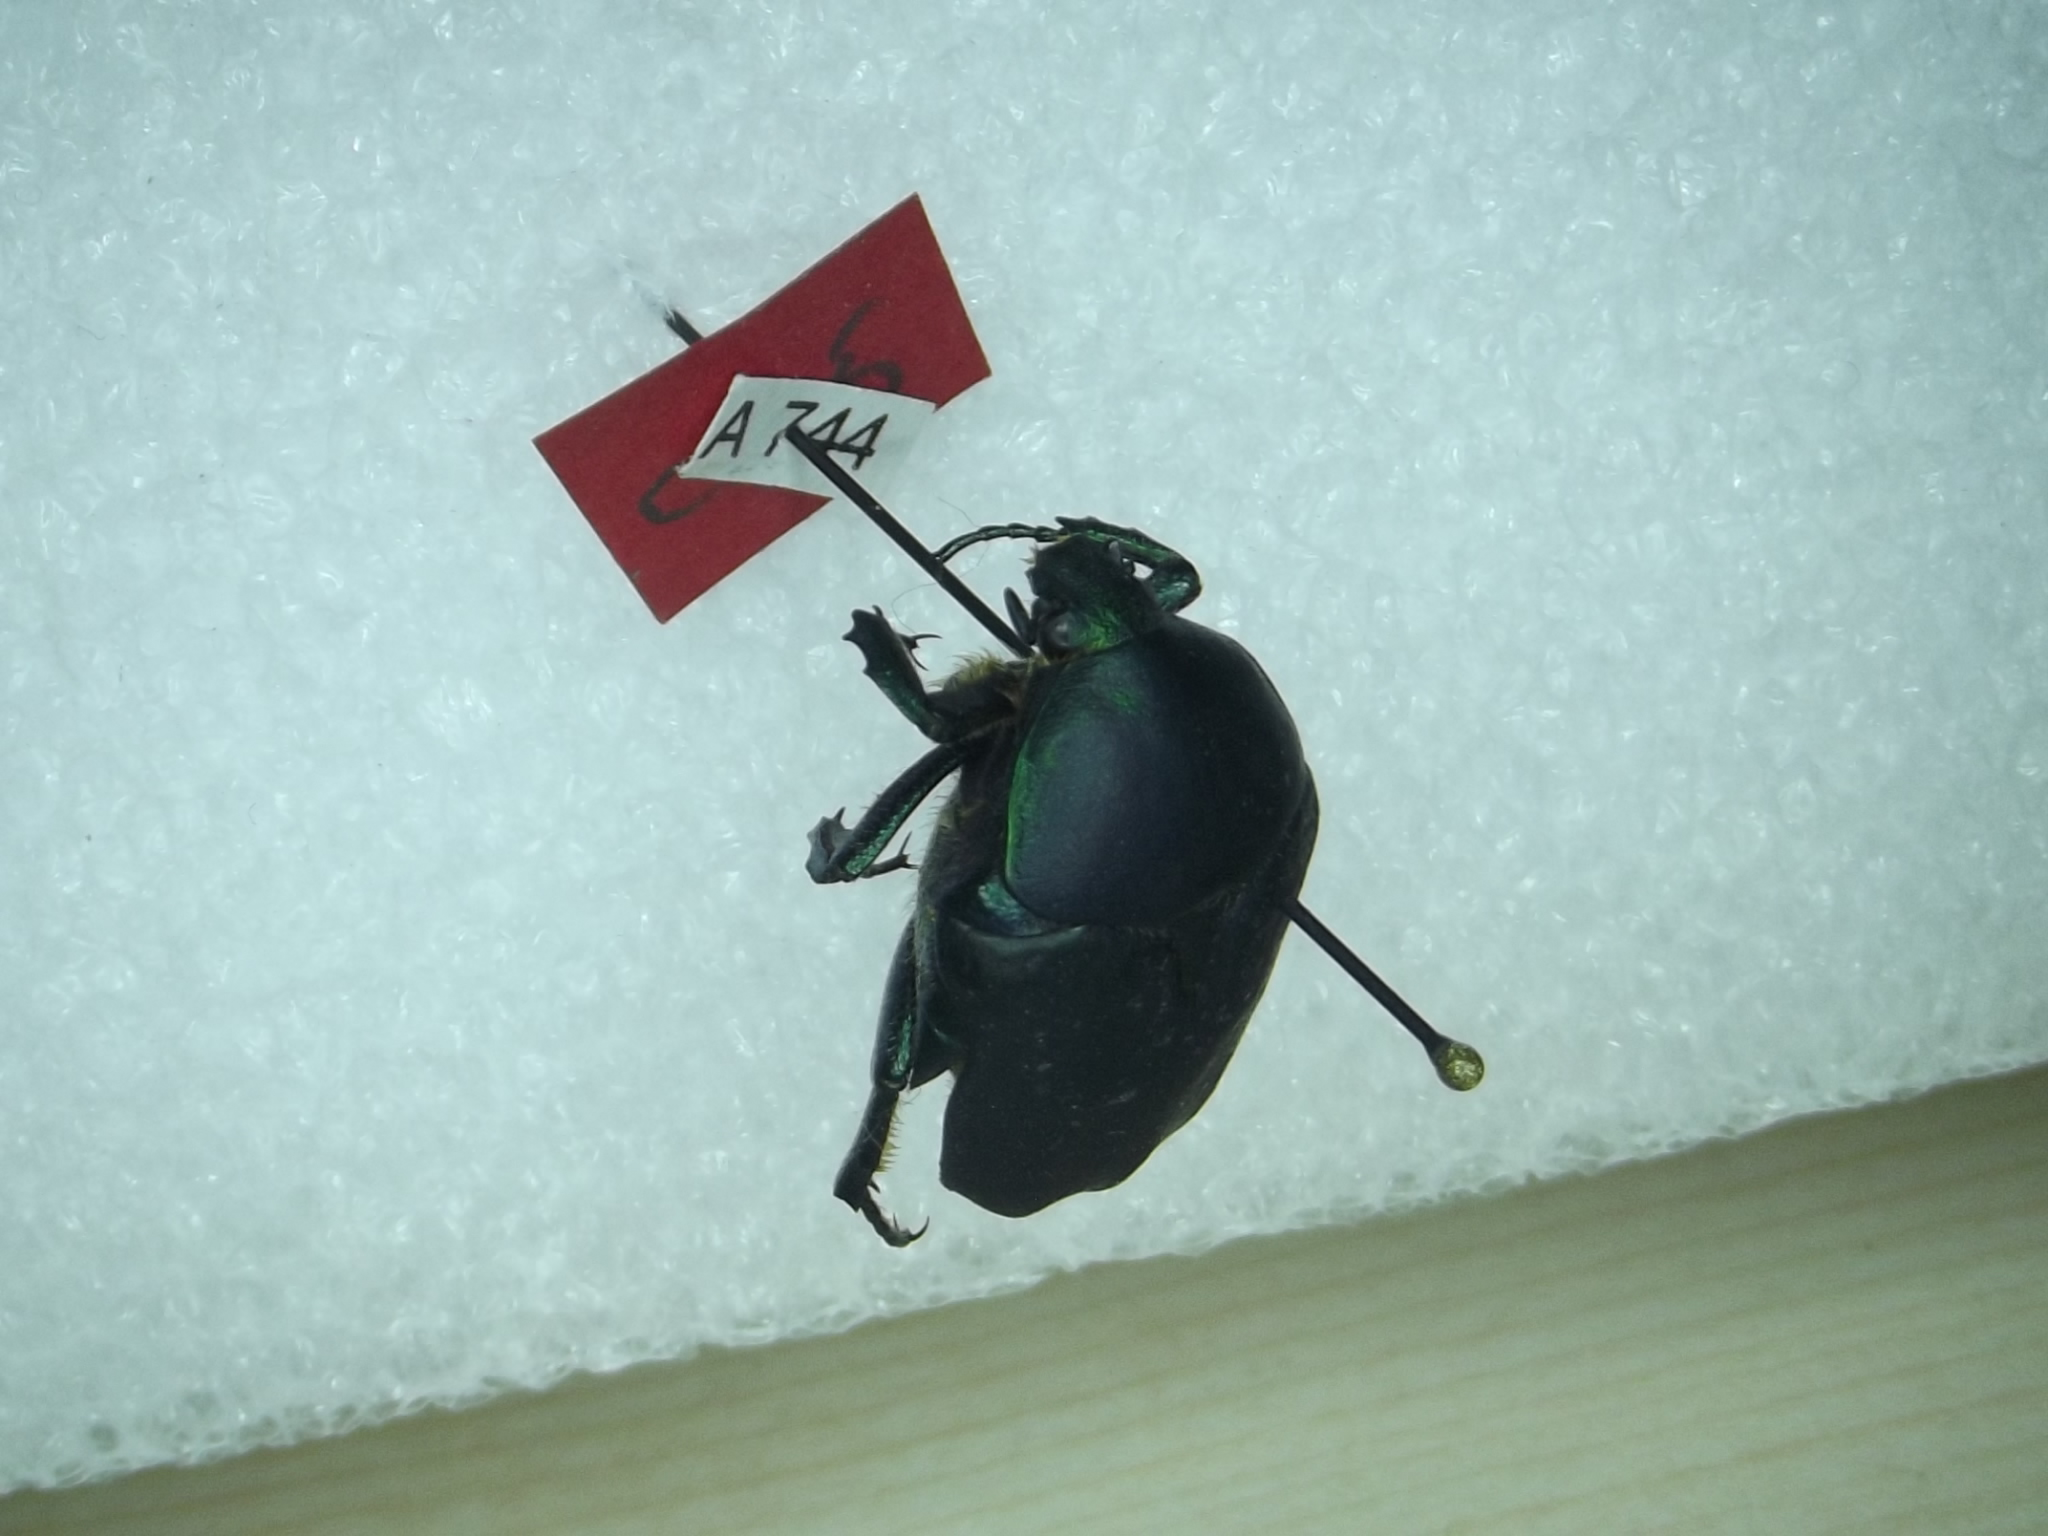Protaetia_afflicta: (785, 487, 1334, 1288)
